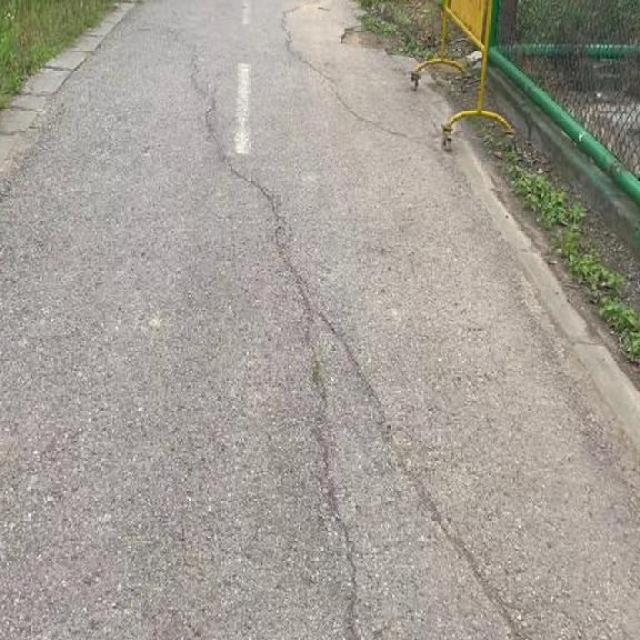Memanjang: (173, 42, 377, 640), (312, 307, 544, 640)
